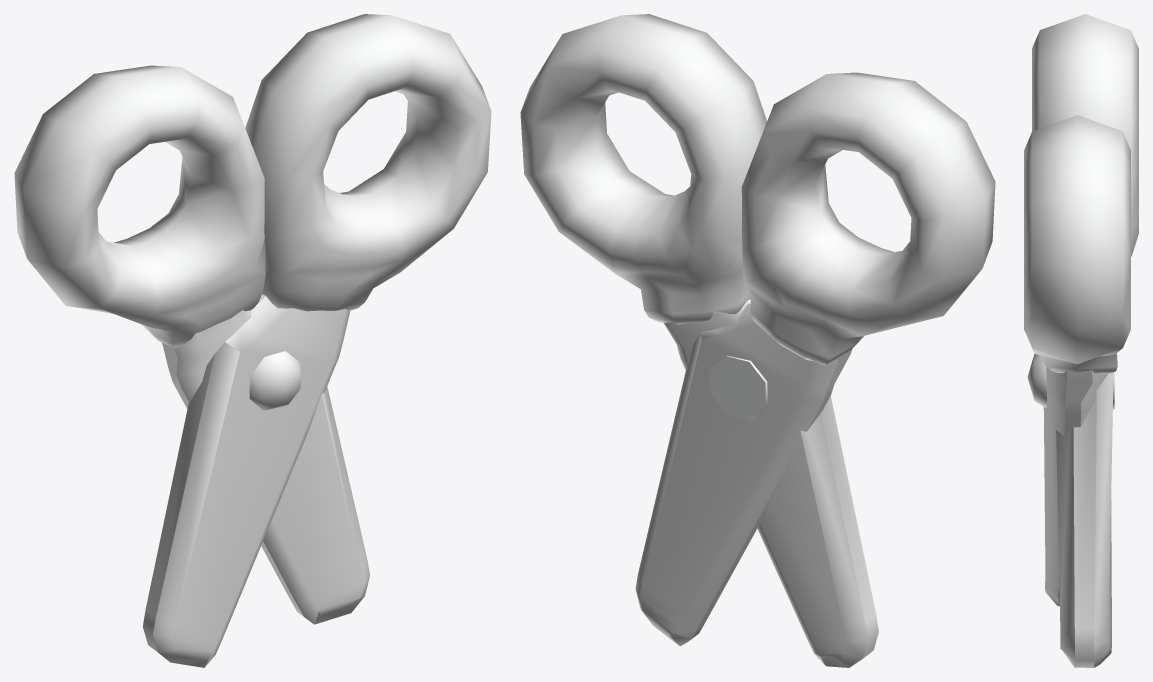
The model's file is Scissors.fbx.
3 views of the same model, side by side, from view 1: azimuth 30°, elevation 25°; view 2: azimuth 150°, elevation 25°; view 3: azimuth 270°, elevation 25° (orthographic). The views are drawn at different scales.
Visible parts, largest first — view 1: ScissorsR_Outline, ScissorsL_Outline; view 2: ScissorsL_Outline, ScissorsR_Outline; view 3: ScissorsR_Outline, ScissorsL_Outline.
Boxes of the visible parts, <box> form: ScissorsR_Outline: <box>143,14,491,667</box>; ScissorsL_Outline: <box>14,65,369,624</box>; ScissorsL_Outline: <box>635,72,995,646</box>; ScissorsR_Outline: <box>520,14,878,667</box>; ScissorsR_Outline: <box>1024,115,1130,606</box>; ScissorsL_Outline: <box>1032,14,1138,667</box>.
Size of the model in its own units: 0.3603 by 0.4539 by 0.0845.
Materials: 1 (1 with a texture image).
